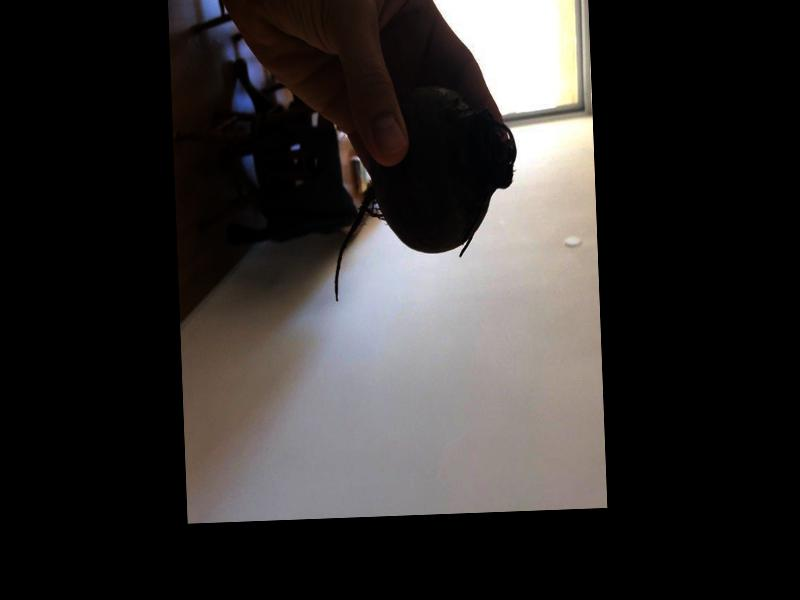Beet: (327, 83, 521, 301)
